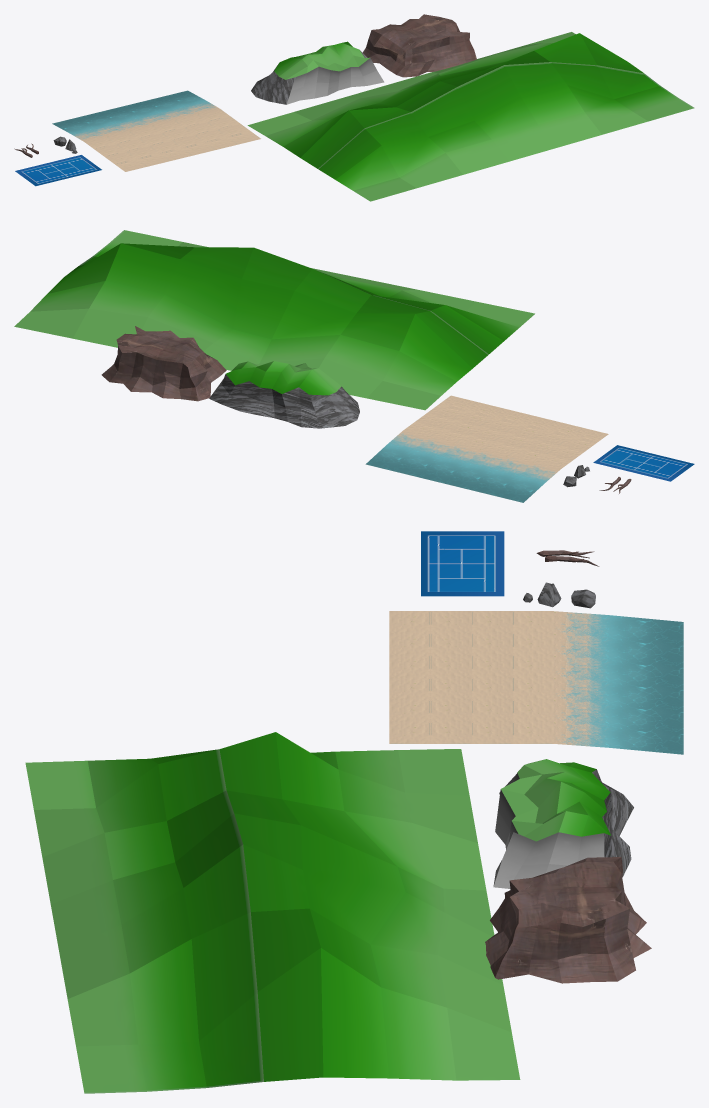
The model's file is BeachMapProps.fbx.
3 views of the same model, one above another, from view 1: azimuth 30°, elevation 25°; view 2: azimuth 150°, elevation 25°; view 3: azimuth 270°, elevation 25° (orthographic). The views are drawn at different scales.
Parts seen in each view (by area): view 1: Plane003, Plane001, Box002, Box001, Object001, Plane002; view 2: Plane003, Plane001, Box001, Box002, Object001, Plane002; view 3: Plane003, Plane001, Box002, Box001, Object001, Plane002.
Part boxes in pixels (<box>): Plane003: <box>247,32,694,201</box>; Plane001: <box>52,90,250,164</box>; Box002: <box>362,14,476,77</box>; Box001: <box>251,41,384,104</box>; Object001: <box>115,131,260,171</box>; Plane002: <box>15,155,101,186</box>; Plane003: <box>14,230,534,410</box>; Plane001: <box>365,404,596,502</box>; Box001: <box>209,354,359,428</box>; Box002: <box>101,326,226,401</box>; Object001: <box>439,395,608,442</box>; Plane002: <box>593,445,694,481</box>; Plane003: <box>25,732,520,1093</box>; Plane001: <box>430,611,683,754</box>; Box002: <box>485,857,651,983</box>; Box001: <box>493,759,633,888</box>; Object001: <box>389,611,430,743</box>; Plane002: <box>421,531,504,596</box>.
Size of the model in its own units: 6042 by 559 by 2993.
